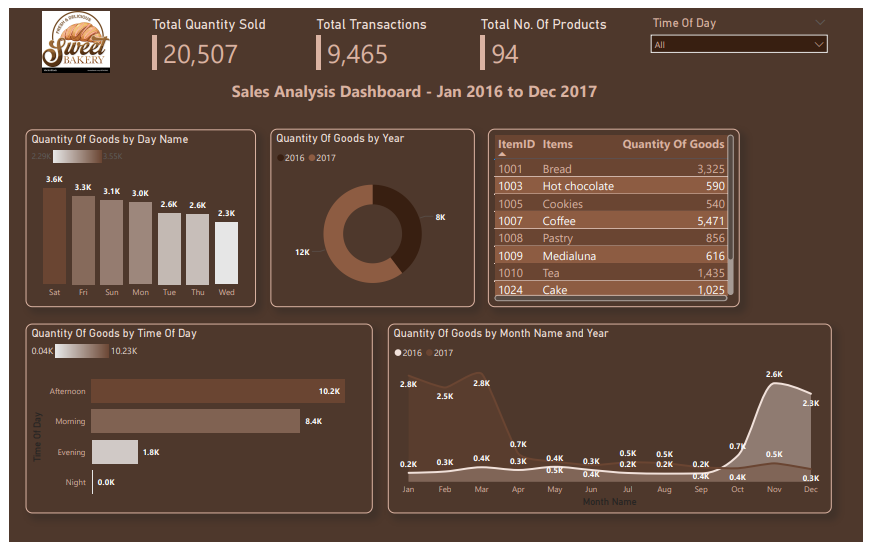

The page's visual inventory and layout, read from the dashboard file:
{"tool":"powerbi","page":{"name":"Page 2","canvas":[1280,800],"ordinal":1},"visuals":[{"type":"columnChart","fields":{"Y":["All Measures.Quantity Of Goods"],"Category":["DimDate.Day Name"]},"box":[25,161.7,345,286.7],"z":0},{"type":"donutChart","fields":{"Y":["All Measures.Quantity Of Goods"],"Series":["DimDate.Year"]},"box":[391.7,161.7,306.7,286.7],"z":1000},{"type":"barChart","fields":{"Category":["DimTime.Time Of Day"],"Y":["All Measures.Quantity Of Goods"]},"box":[25,473.3,520,283.3],"z":2000},{"type":"areaChart","fields":{"Category":["DimDate.Month Name"],"Y":["All Measures.Quantity Of Goods"],"Series":["DimDate.Year"]},"box":[568.3,473.3,665,283.3],"z":3000},{"type":"tableEx","fields":{"Values":["DimProduct.ItemID","DimProduct.Items","All Measures.Quantity Of Goods"]},"box":[718.3,161.7,481.7,311.7],"z":4000},{"type":"image","box":[25,0,150,101.7],"z":5000},{"type":"multiRowCard","title":"Total Quantity Sold","fields":{"Values":["All Measures.Quantity Of Goods"]},"box":[210,13.3,200,88.3],"z":6000},{"type":"multiRowCard","title":"Total Transactions","fields":{"Values":["All Measures.Total Transactions"]},"box":[456.1,13.3,200,88.3],"z":7000},{"type":"multiRowCard","title":"Total No. Of Products","fields":{"Values":["All Measures.No Of Product"]},"box":[702.2,13.3,200,88.3],"z":8000},{"type":"slicer","fields":{"Values":["DimTime.Time Of Day"]},"box":[951.7,6.7,285,101.7],"z":9000},{"type":"textbox","box":[310,101.7,576.7,60],"z":10000}]}

Visuals, with their boxes in screenshot pixels (x1, y1, x2, y2), scaled from the page's 1280x800 canvas onto the 873x553 screenshot:
columnChart - All Measures.Quantity Of Goods x DimDate.Day Name: (17,112,252,310)
donutChart - All Measures.Quantity Of Goods x DimDate.Year: (267,112,476,310)
barChart - DimTime.Time Of Day x All Measures.Quantity Of Goods: (17,327,372,523)
areaChart - DimDate.Month Name x All Measures.Quantity Of Goods: (388,327,841,523)
tableEx - DimProduct.ItemID x DimProduct.Items: (490,112,818,327)
image: (17,0,119,70)
"Total Quantity Sold" multiRowCard: (143,9,280,70)
"Total Transactions" multiRowCard: (311,9,447,70)
"Total No. Of Products" multiRowCard: (479,9,615,70)
slicer - DimTime.Time Of Day: (649,5,843,75)
textbox: (211,70,605,112)
